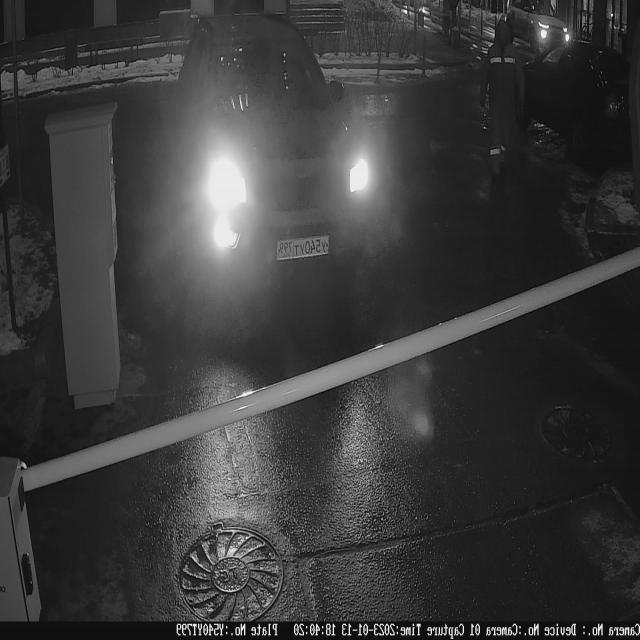car-plate-numbers: (276, 234, 332, 265)
